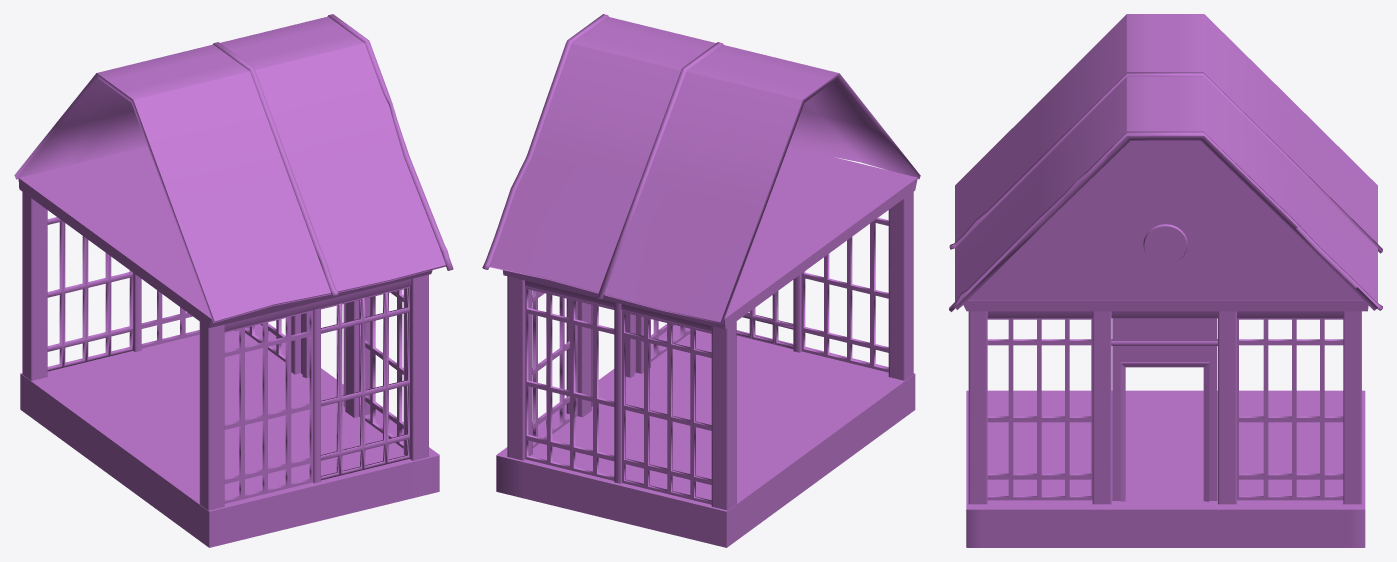
Rendered from BrickHouse_Ext_A.fbx.
3 renders of one model, left to right at view 1: azimuth 30°, elevation 25°; view 2: azimuth 150°, elevation 25°; view 3: azimuth 270°, elevation 25°, orthographic. The views are drawn at different scales.
Visible parts, largest first — view 1: BrickHouse_Ext_A; view 2: BrickHouse_Ext_A; view 3: BrickHouse_Ext_A.
Part boxes in pixels (x1,y1,x2,y2): BrickHouse_Ext_A: (14, 14, 453, 547); BrickHouse_Ext_A: (482, 14, 920, 547); BrickHouse_Ext_A: (949, 14, 1382, 547).
Bounding box in the file's own units: 7.04 × 11.16 × 10.54.
